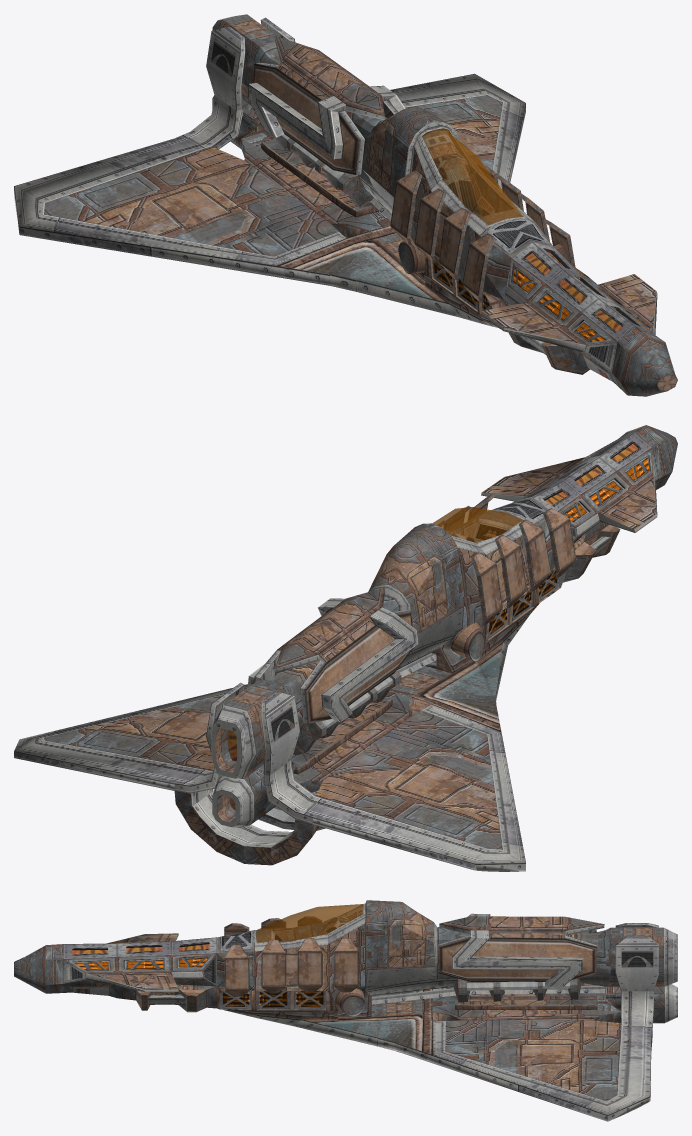
3 views of the same model, one above another, from view 1: azimuth 30°, elevation 25°; view 2: azimuth 150°, elevation 25°; view 3: azimuth 270°, elevation 25° (orthographic). The views are drawn at different scales.
Parts seen in each view (by area): view 1: Some_Ship; view 2: Some_Ship; view 3: Some_Ship.
Part boxes in pixels (x1=…): Some_Ship: x1=14, y1=14, x2=677, y2=396; Some_Ship: x1=14, y1=425, x2=677, y2=871; Some_Ship: x1=14, y1=900, x2=677, y2=1121.
Size of the model in its own units: 43.96 by 16.79 by 66.32.
8 materials, 7 textured.
